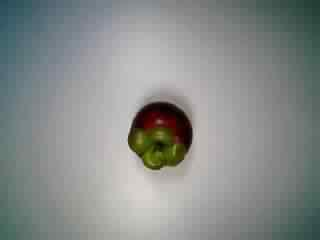mangosteen: (122, 99, 197, 172)
